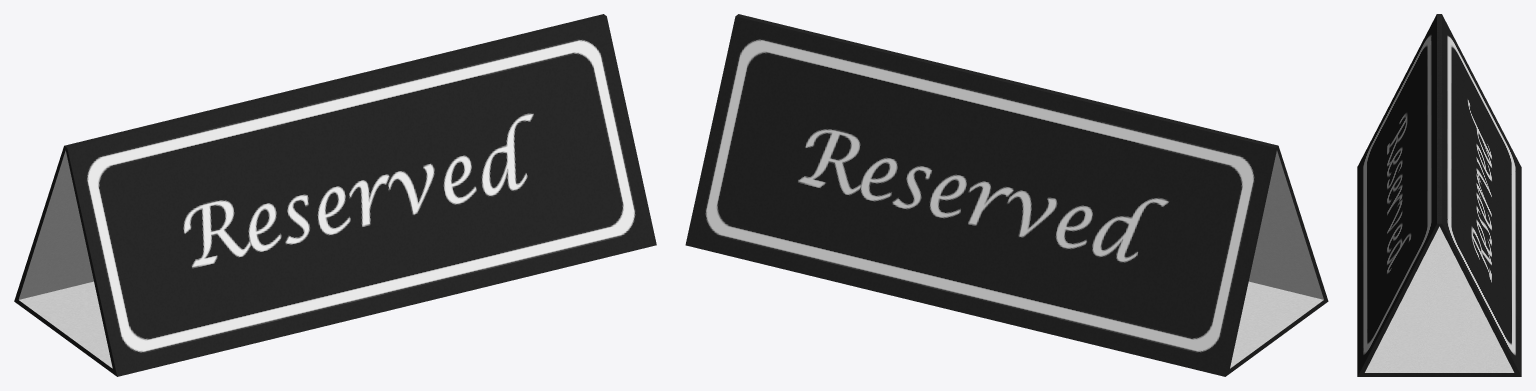
File: TableCards01_3.FBX
3 views of the same model, side by side, from view 1: azimuth 30°, elevation 25°; view 2: azimuth 150°, elevation 25°; view 3: azimuth 270°, elevation 25° (orthographic). The views are drawn at different scales.
Parts seen in each view (by area): view 1: TableCards01_3; view 2: TableCards01_3; view 3: TableCards01_3.
Part boxes in pixels (x1,y1,x2,y2): TableCards01_3: (14, 14, 656, 376); TableCards01_3: (685, 14, 1328, 376); TableCards01_3: (1357, 14, 1521, 376).
Size of the model in its own units: 25 by 8.51 by 8.28.
